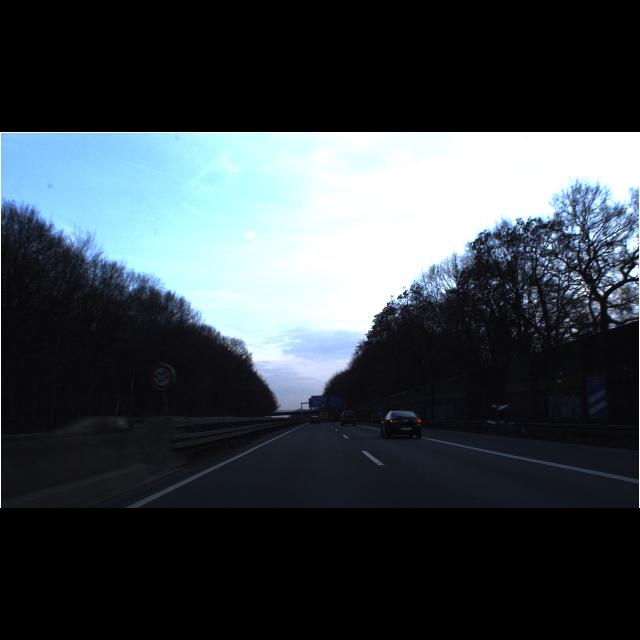prohibitory: (148, 362, 176, 390)
